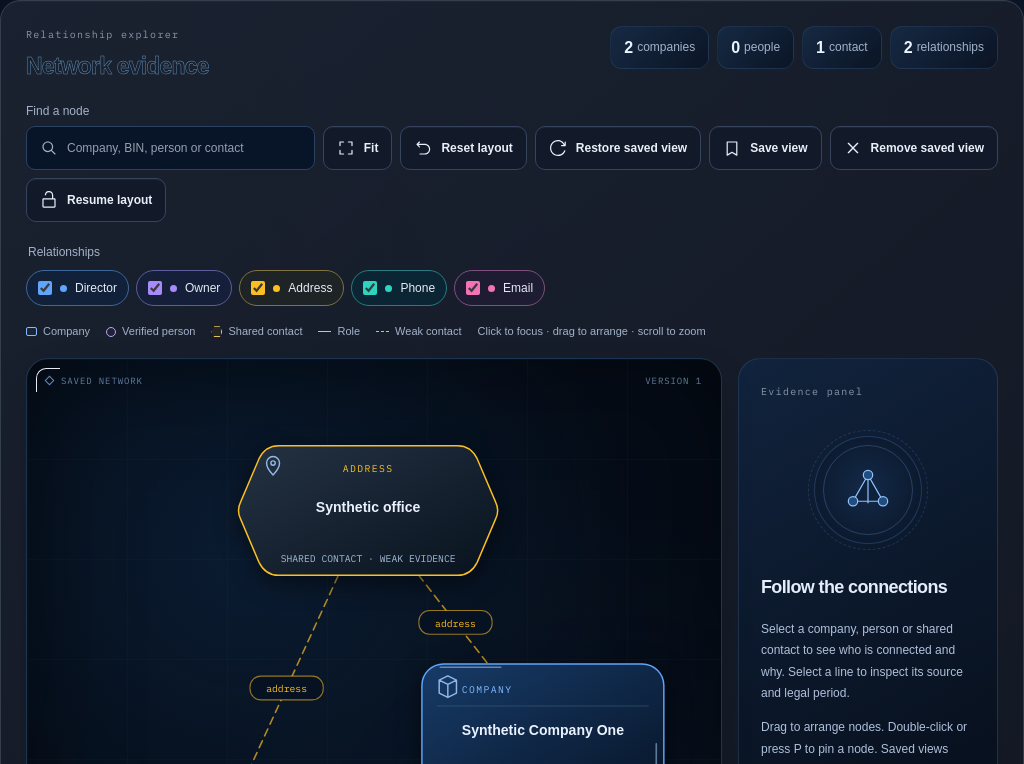
graph Save View contract › removes an account view with CSRF and uses the returned revision for re-save
Click the button "Remove saved view": x=914, y=148 [830,126,998,170]
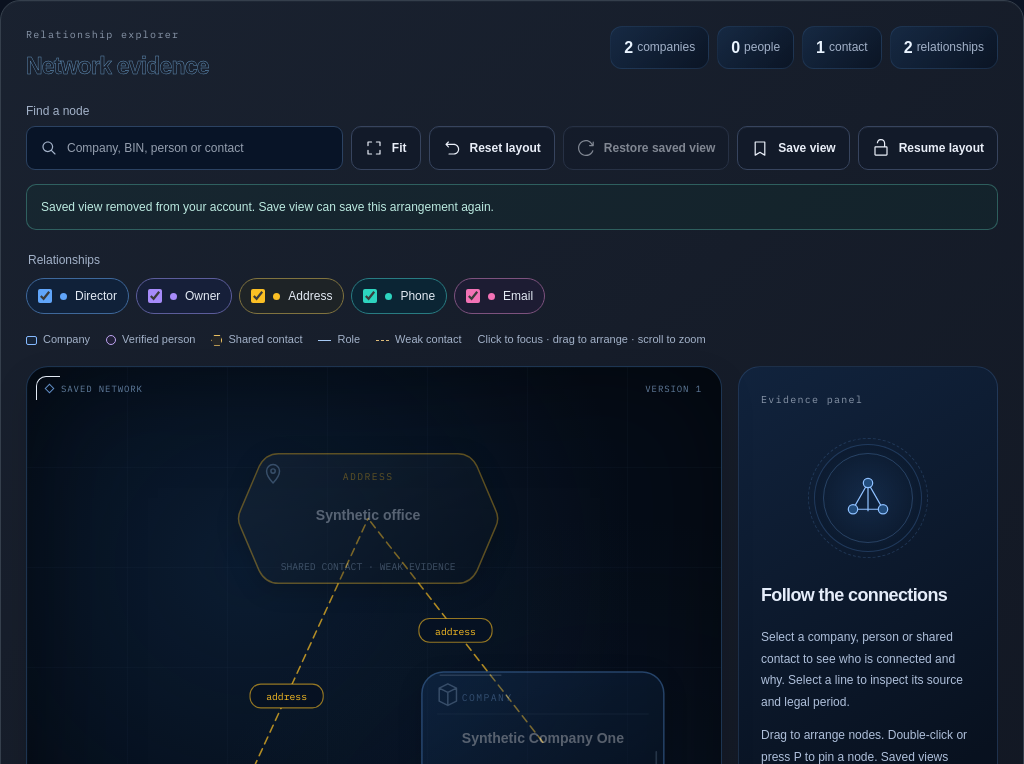
Now the button "Remove saved view" is gone
Click the button "Save view": x=794, y=148 [737,126,850,170]
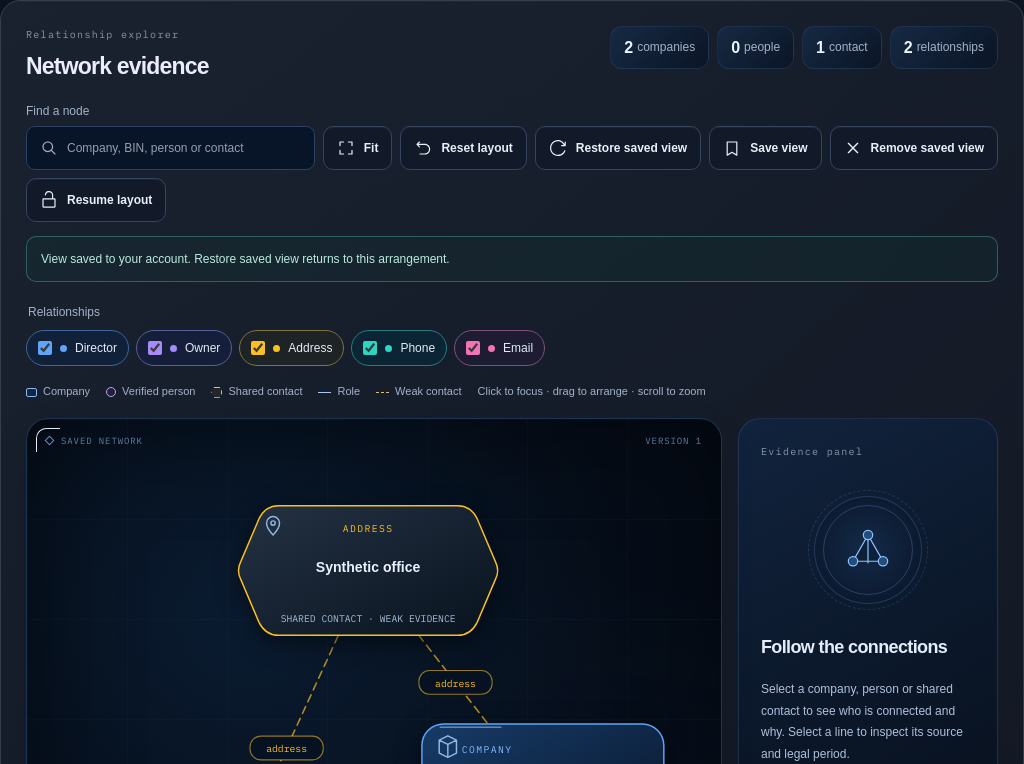
Now the button "Remove saved view" is shown, box [830,126,998,170]
